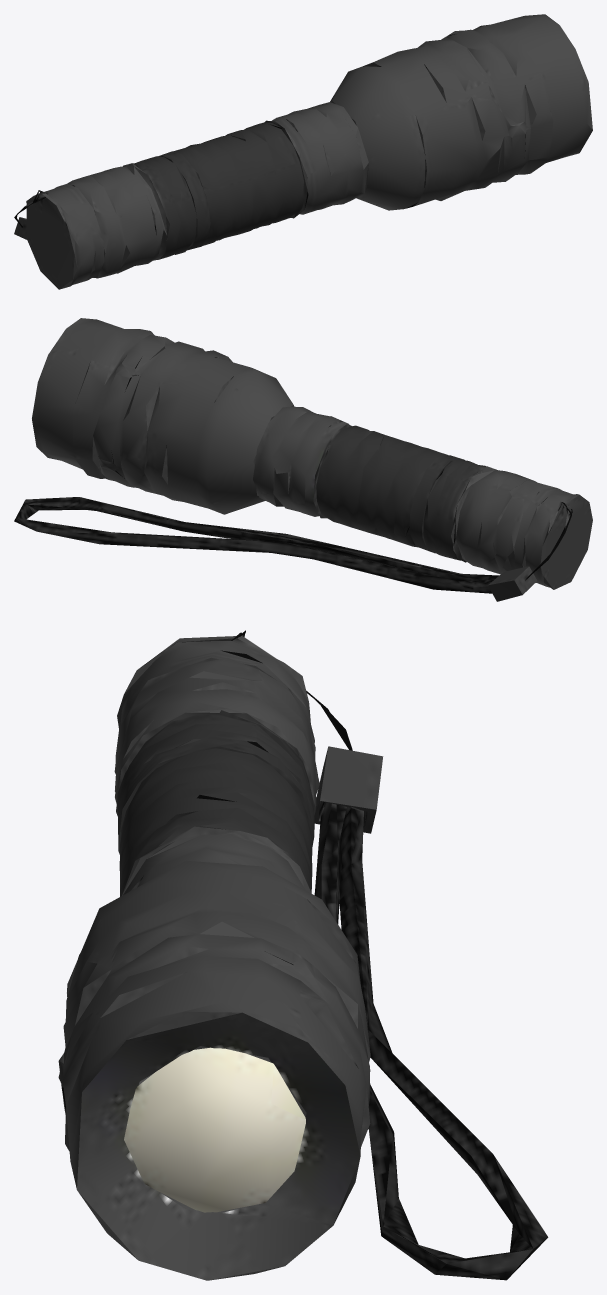
File: flashlight.glb
The picture shows the model from 3 angles, top to bottom: view 1: azimuth 30°, elevation 25°; view 2: azimuth 150°, elevation 25°; view 3: azimuth 270°, elevation 25°; orthographic projection. The views are drawn at different scales.
Visible parts, largest first — view 1: flashlight; view 2: flashlight; view 3: flashlight.
Part boxes in pixels (box(x1,y1,x2,y2)): flashlight: box(14, 14, 592, 289); flashlight: box(14, 318, 592, 601); flashlight: box(58, 630, 548, 1280).
Size of the model in its own units: 1.05 by 0.2836 by 0.4326.
1 material, 1 textured.
